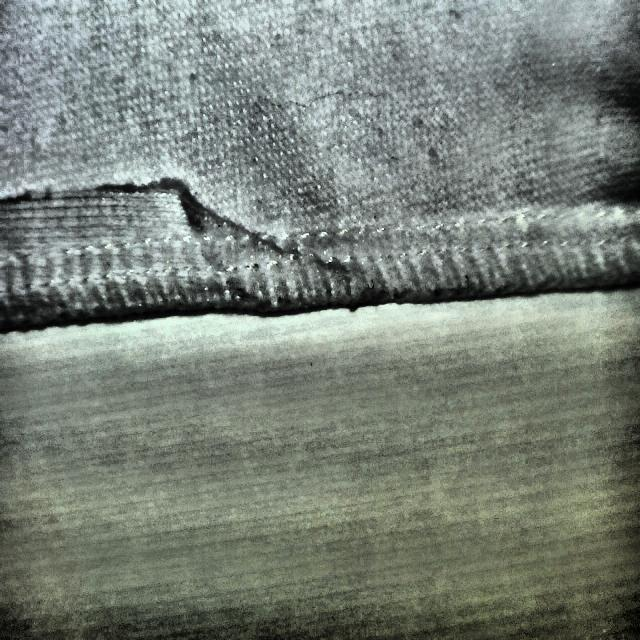gray stitch: (1, 149, 259, 331)
